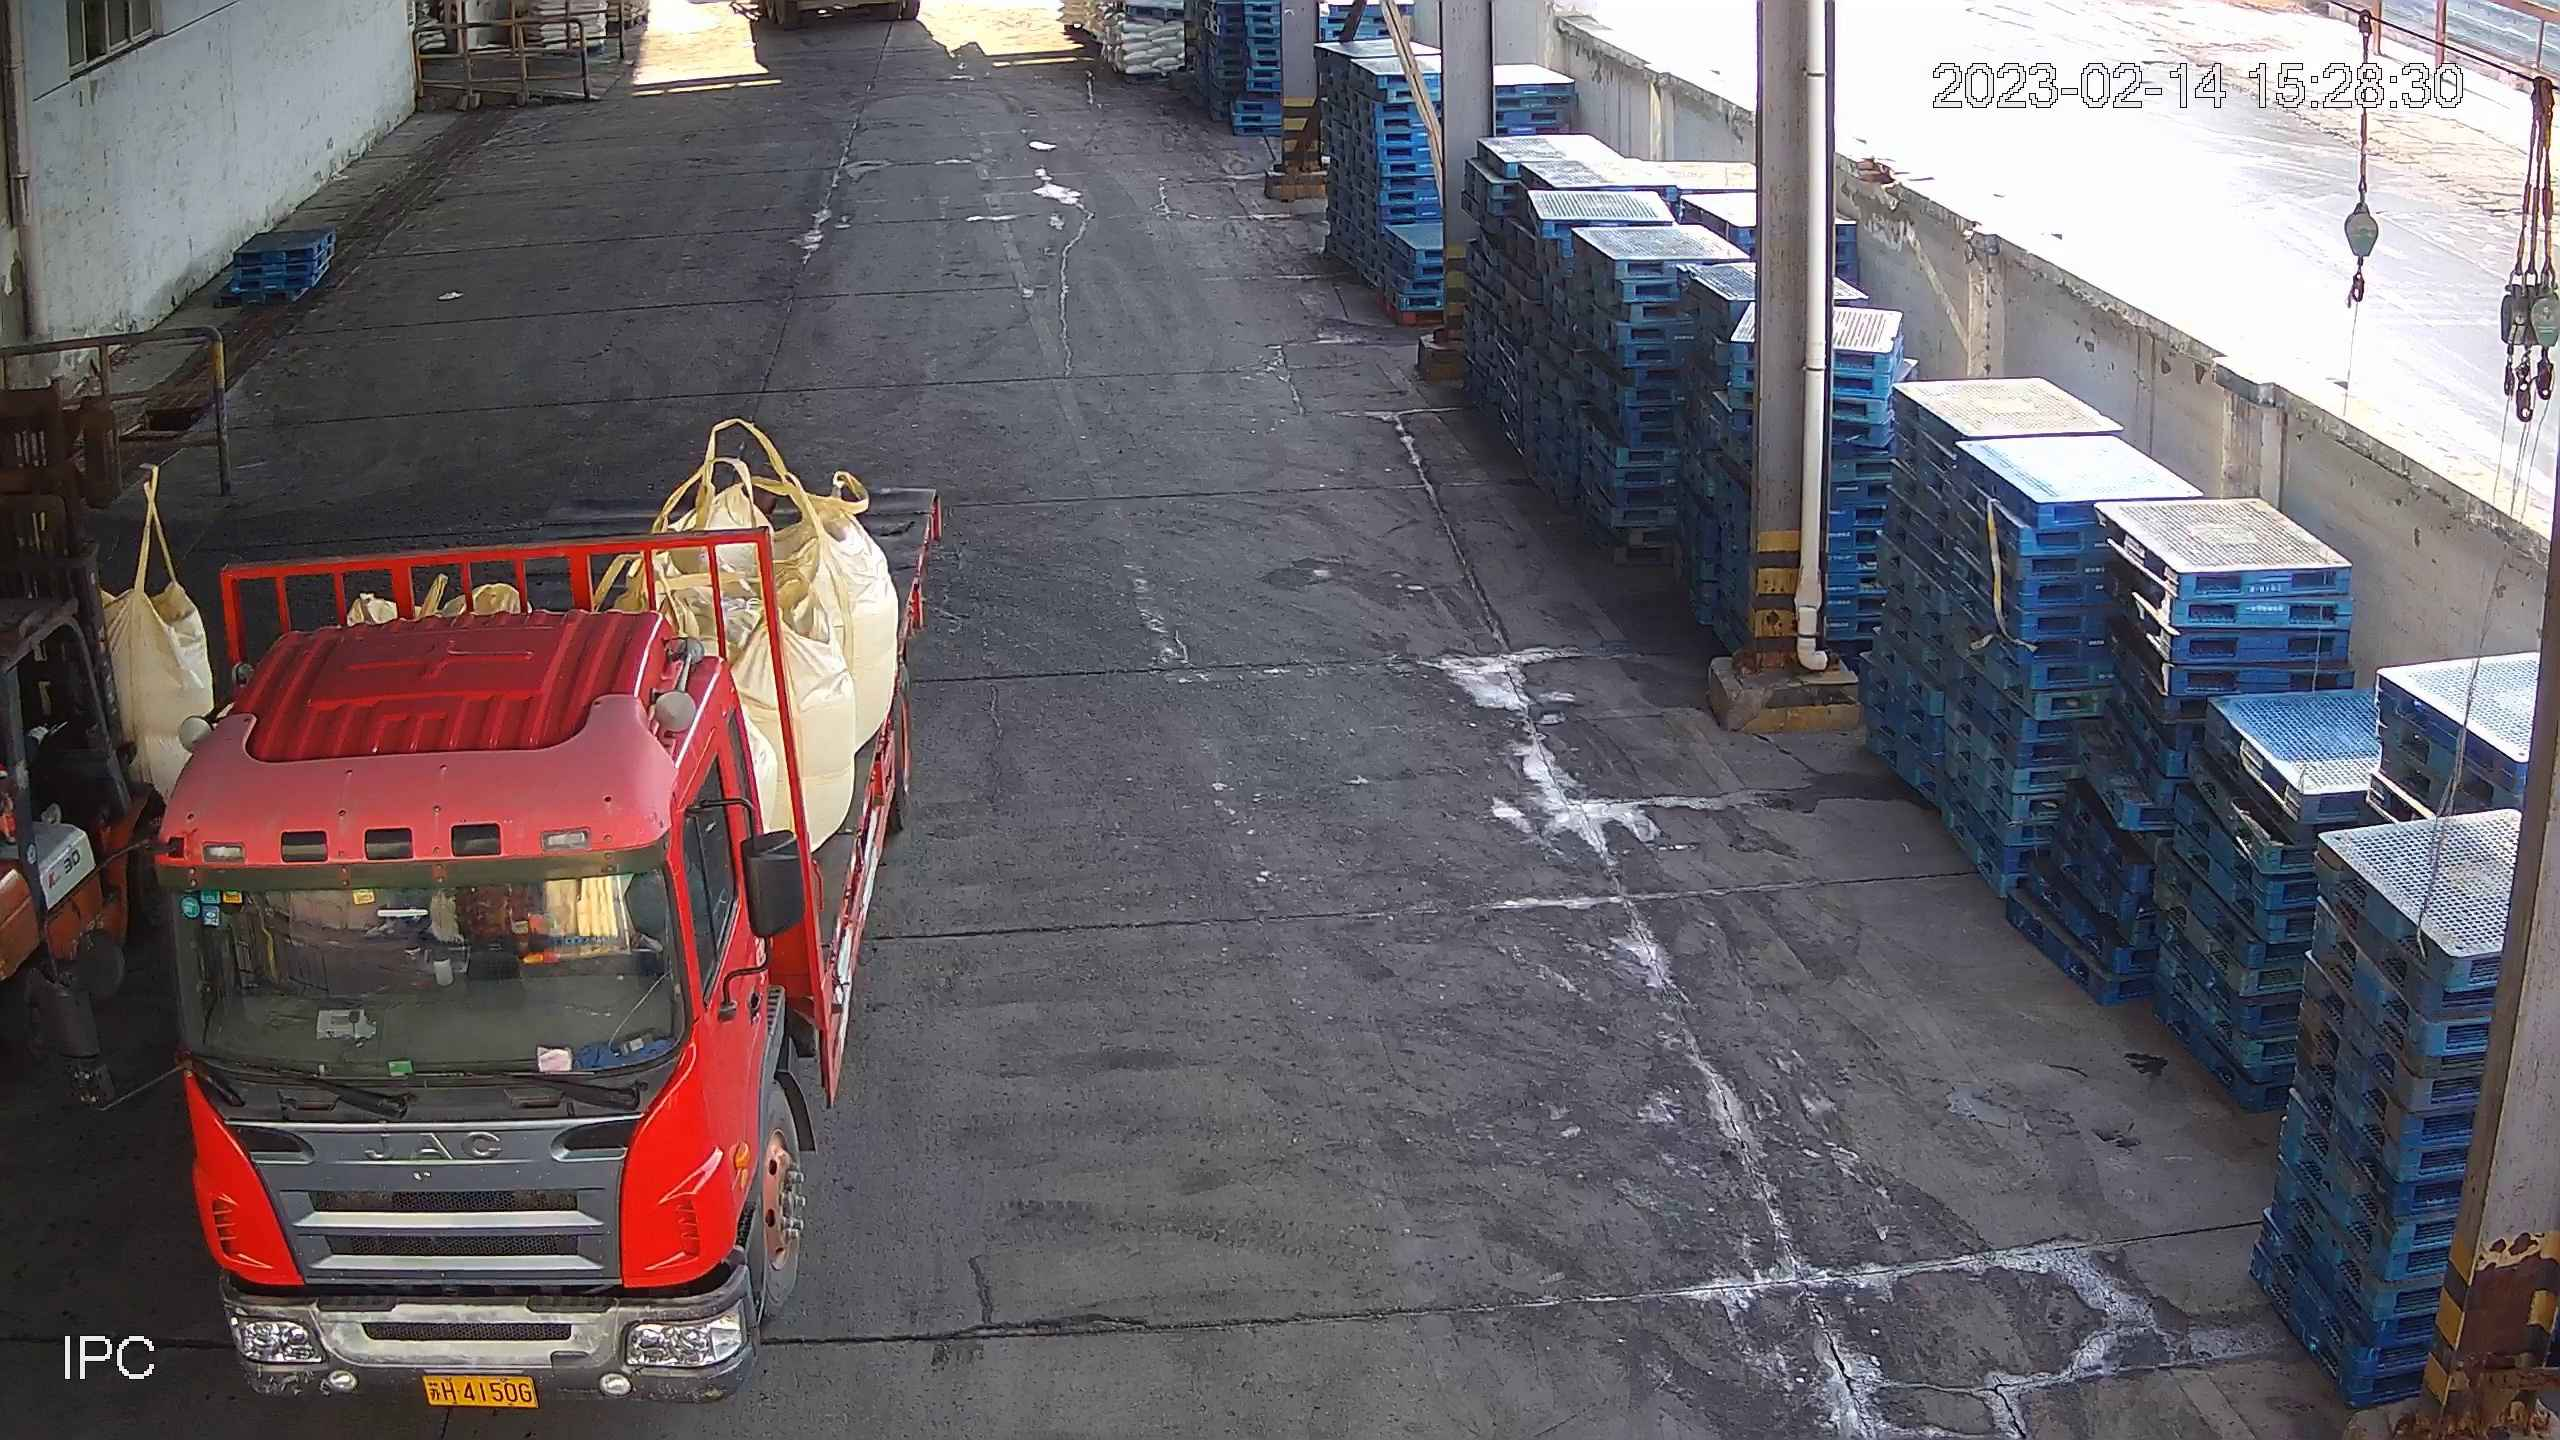truck: (21, 484, 948, 1412)
